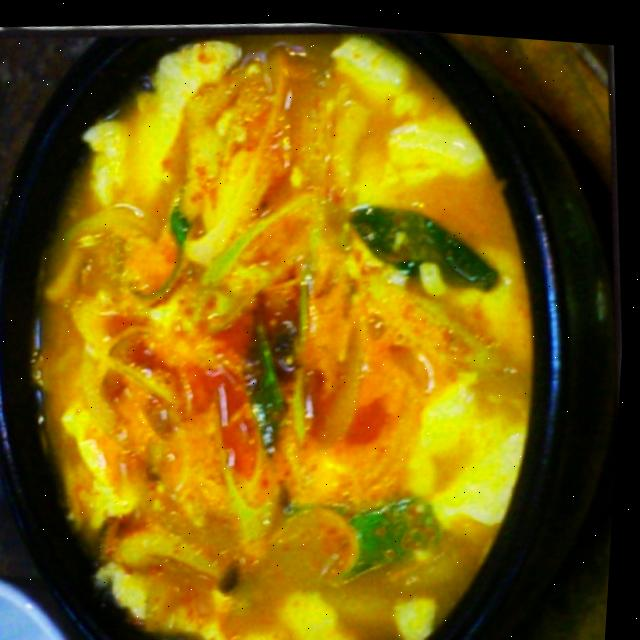汤锅炖物: (0, 2, 605, 640)
